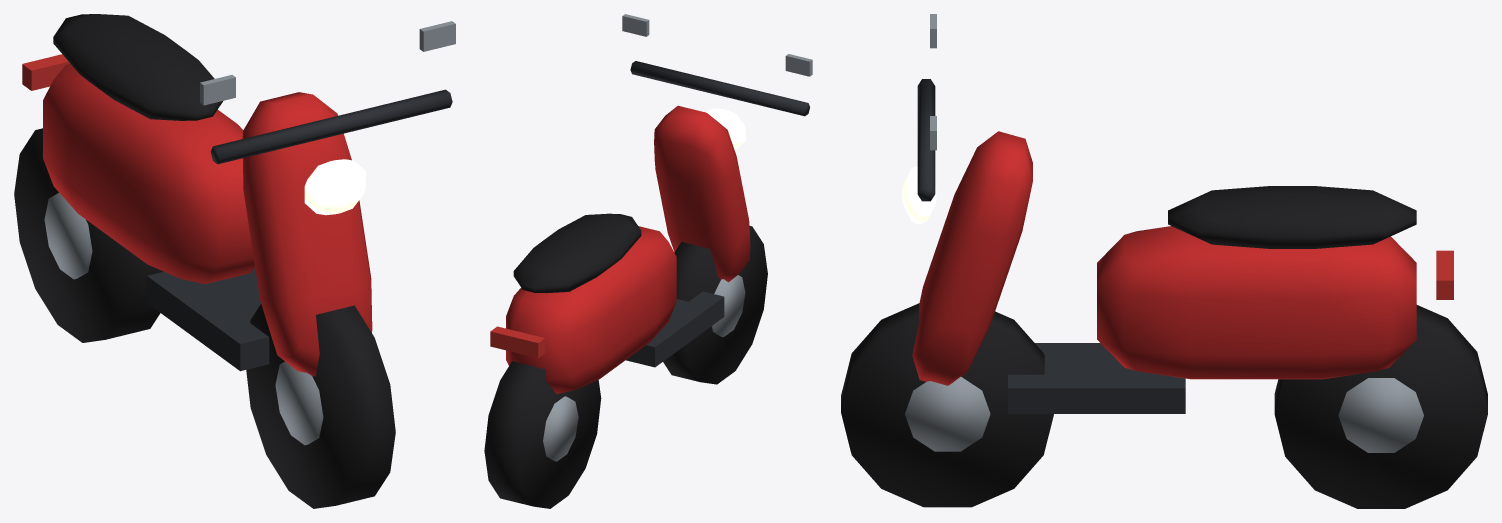
File: prop_motor_merah.glb
3 renders of one model, left to right at view 1: azimuth 30°, elevation 25°; view 2: azimuth 150°, elevation 25°; view 3: azimuth 270°, elevation 25°, orthographic. The views are drawn at different scales.
Parts seen in each view (by area): view 1: motor_merah; view 2: motor_merah; view 3: motor_merah.
Part boxes in pixels (left/top/right/bottom): motor_merah: left=14, top=14, right=455, bottom=508; motor_merah: left=484, top=14, right=812, bottom=508; motor_merah: left=841, top=14, right=1487, bottom=508.
Size of the model in its own units: 0.78 by 1.32 by 1.82.
